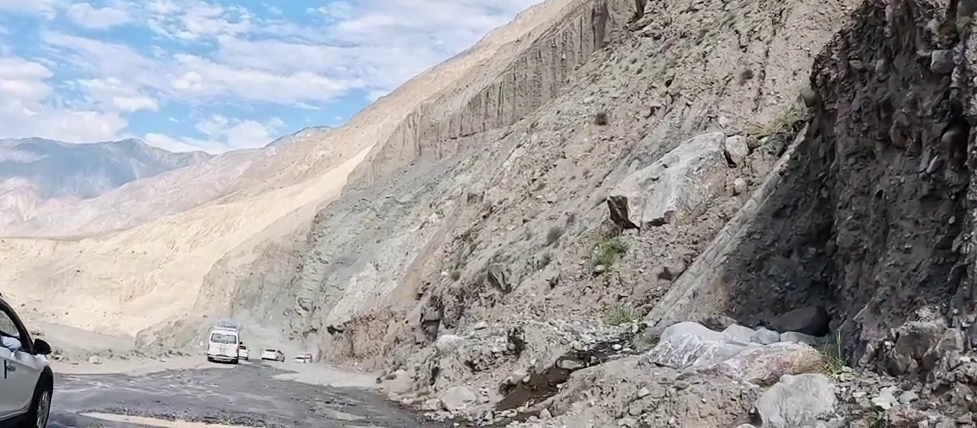unexpected: (217, 279, 667, 428)
